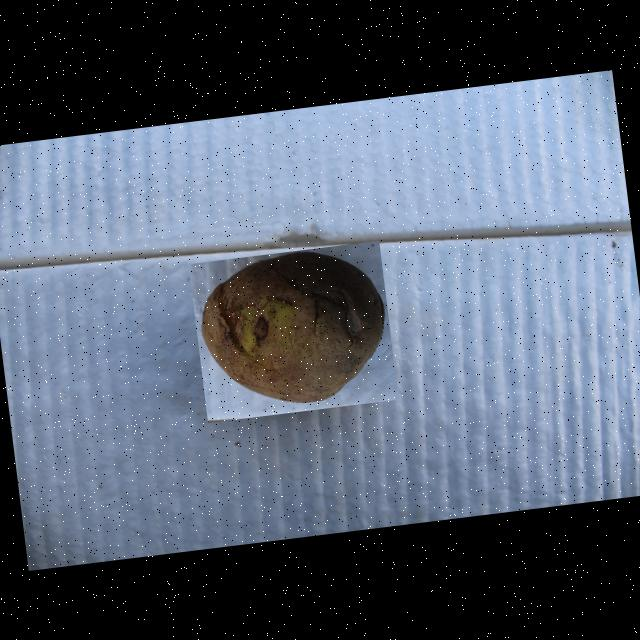Diseased-fungal potato: (188, 240, 398, 422)
